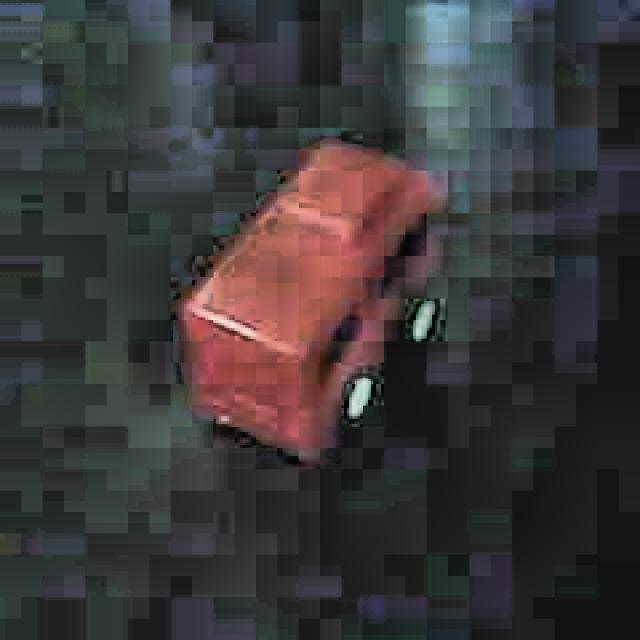bus: (169, 137, 444, 473)
